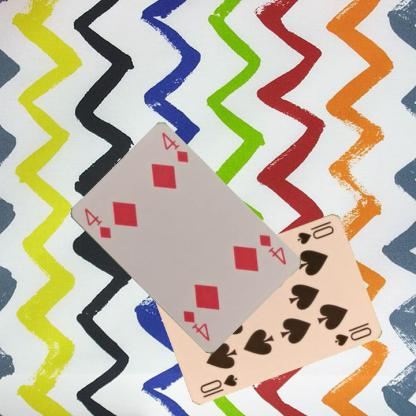10s: (294, 218, 336, 245), (197, 371, 239, 395)
4d: (81, 205, 112, 240), (256, 232, 287, 266)
